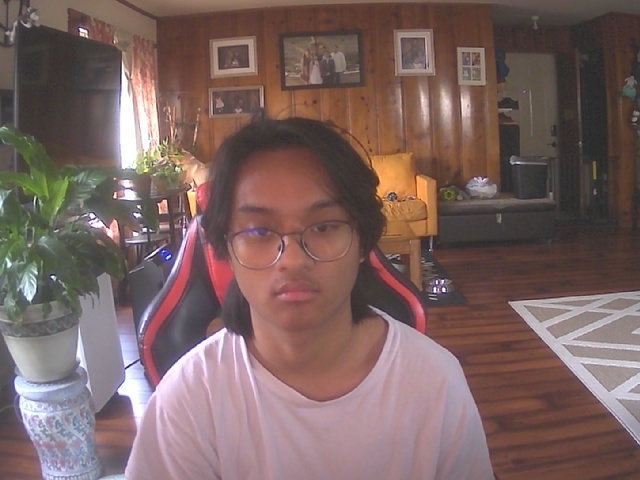neutral: (227, 133, 379, 332)
